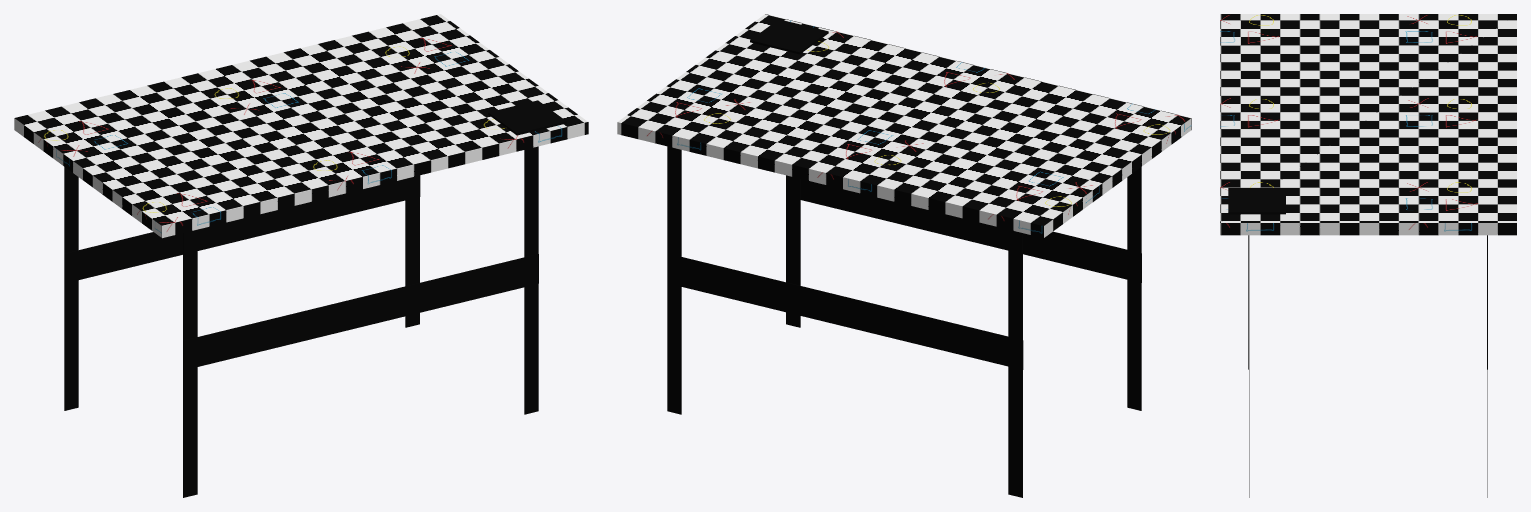
Rendered from jeff robot table.fbx.
3 views of the same model, side by side, from view 1: azimuth 30°, elevation 25°; view 2: azimuth 150°, elevation 25°; view 3: azimuth 270°, elevation 25° (orthographic).
Visible parts, largest first — view 1: Checker_2, Black_2; view 2: Checker_2, Black_2; view 3: Checker_2, Black_2.
Boxes of the visible parts, box(x1,y1,x2,y2) form: Checker_2: box(14, 14, 588, 238); Black_2: box(64, 100, 566, 497); Checker_2: box(617, 14, 1191, 238); Black_2: box(667, 19, 1141, 497); Checker_2: box(1220, 14, 1516, 235); Black_2: box(1228, 188, 1487, 497).
Bounding box in the file's own units: 60 × 36 × 39.41.
Materials: 2 (1 with a texture image).
